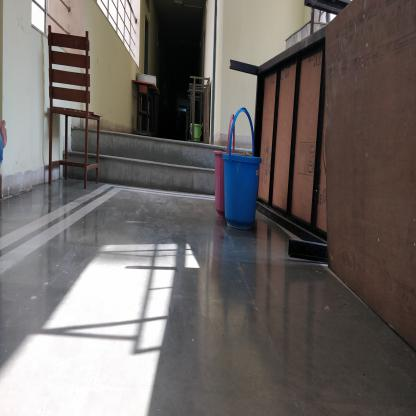stairs: (102, 140, 212, 191)
